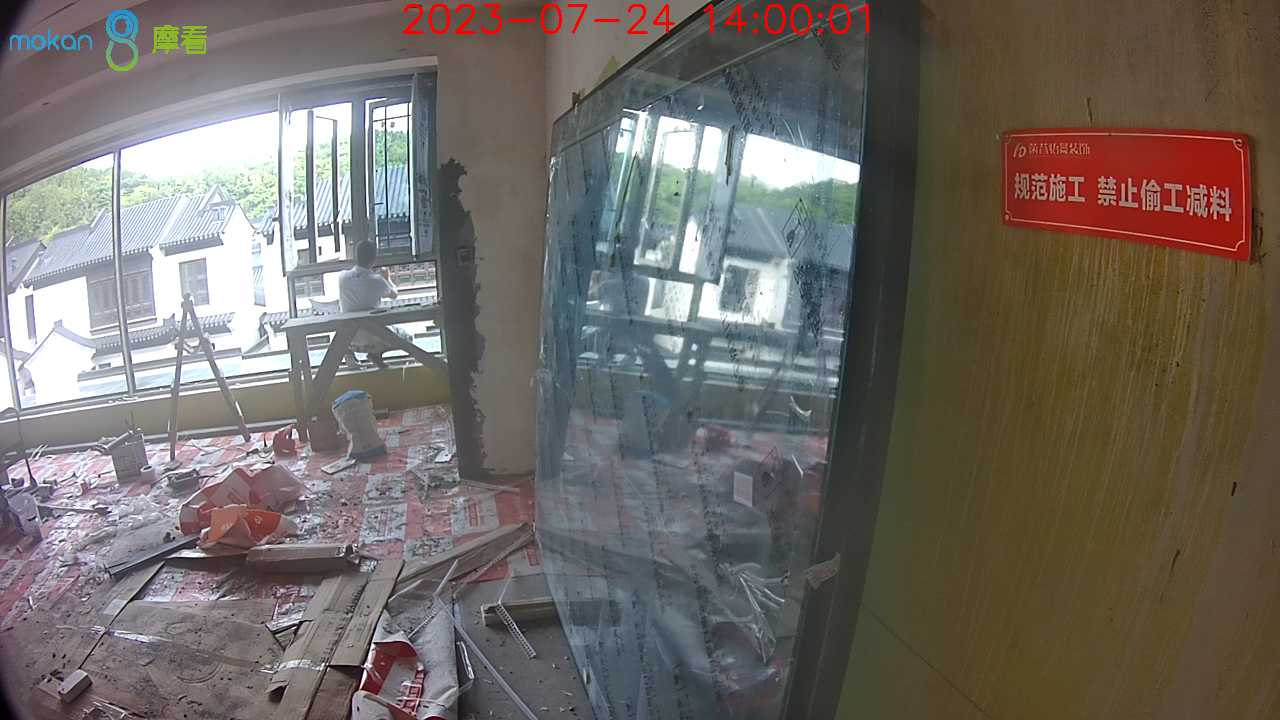people: (333, 240, 401, 367)
window: (2, 116, 447, 381)
